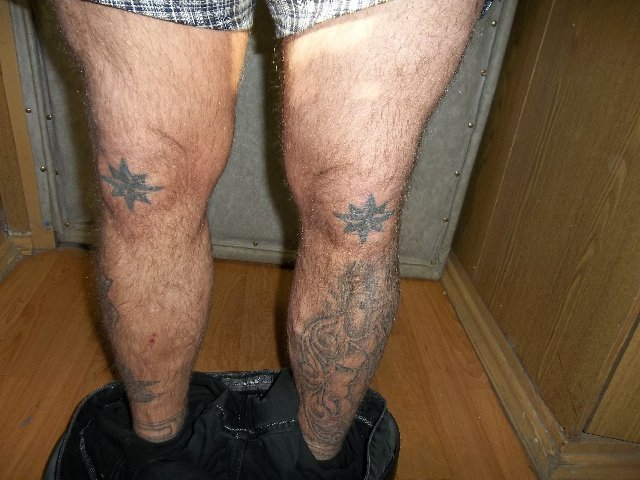tatu4_zvezda: (99, 158, 164, 216), (332, 194, 397, 248)
